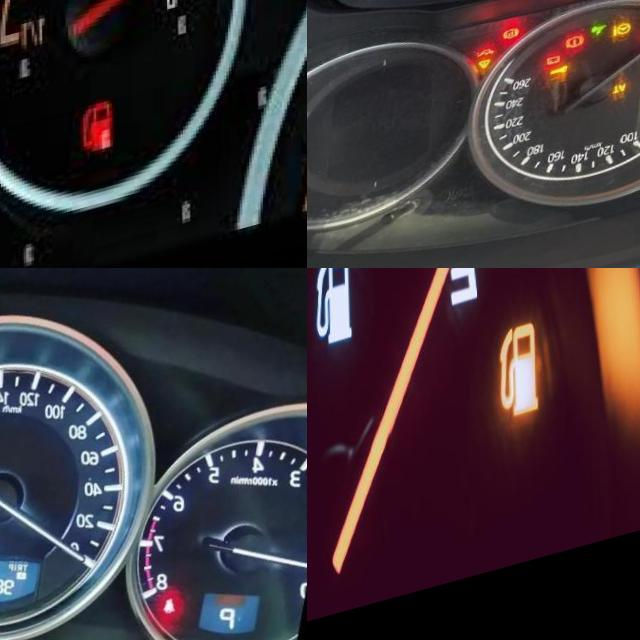Electronic Power Steering: (611, 42, 629, 59)
Seat Belt: (160, 621, 173, 640)
